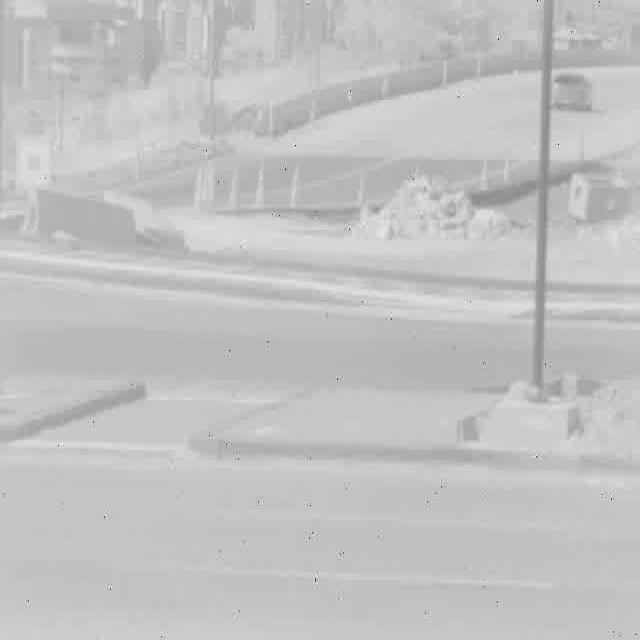Car: (550, 70, 592, 111)
